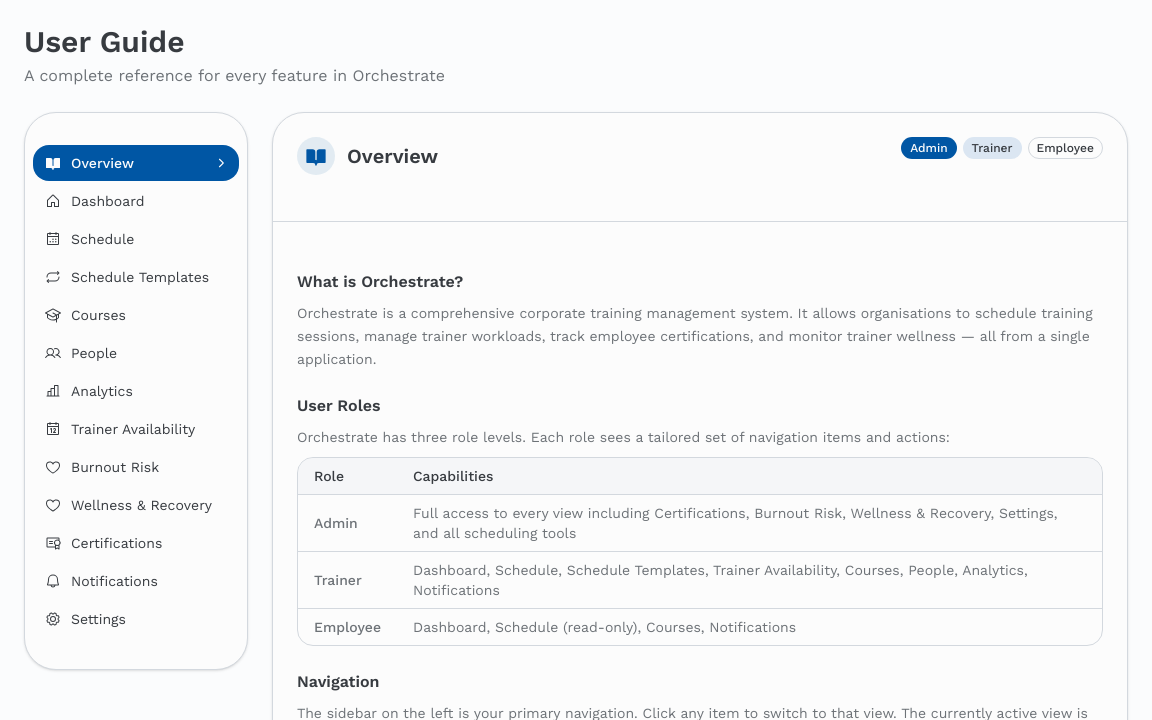
Test: UserGuide › renders Settings section content
This screenshot has width=1152, height=720.
Click the button "Settings" at (136, 619), box [33,601,239,637]
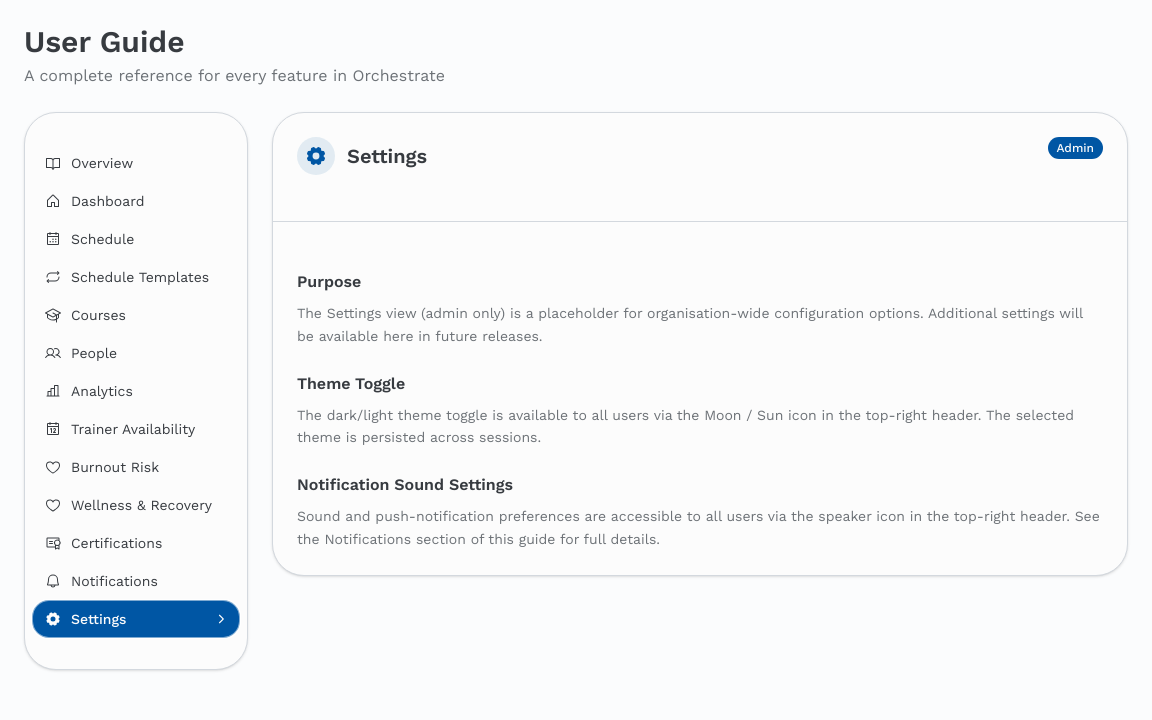
Result: the heading "Notification Sound Settings" is shown at [297,475,513,494]
